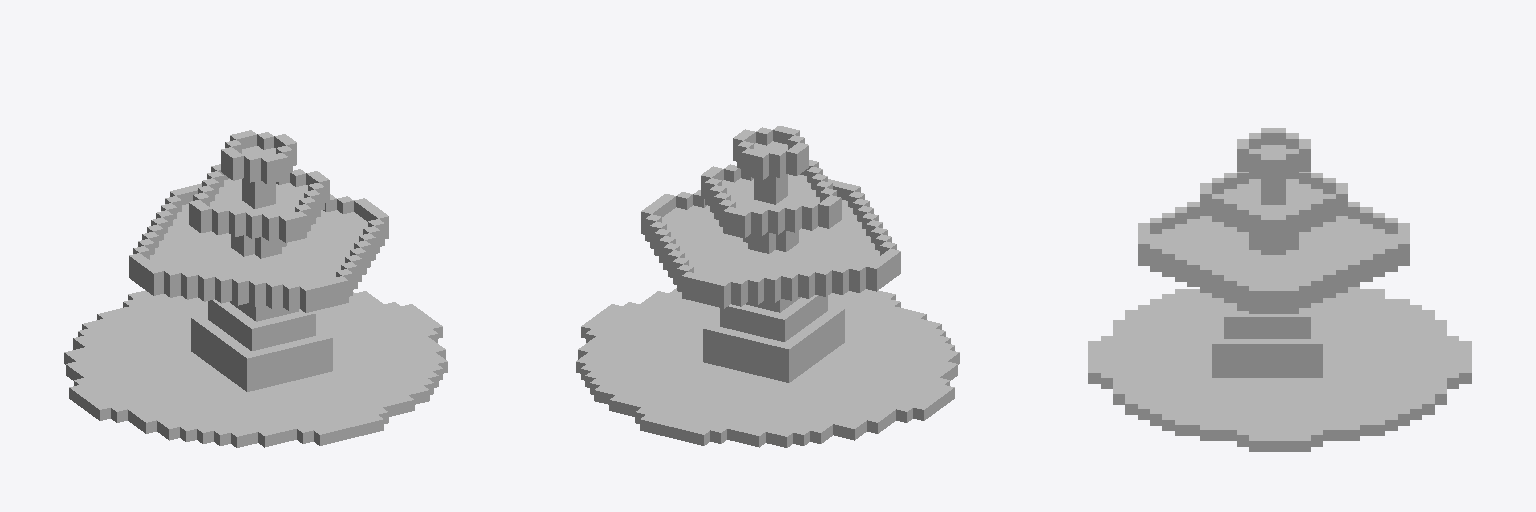
Rendered from fountain.obj.
3 views of the same model, side by side, from view 1: azimuth 30°, elevation 25°; view 2: azimuth 150°, elevation 25°; view 3: azimuth 270°, elevation 25° (orthographic).
Visible parts, largest first — view 1: object 1; view 2: object 1; view 3: object 1.
Part boxes in pixels (left/top/right/bottom): object 1: left=64, top=130, right=447, bottom=447; object 1: left=576, top=126, right=959, bottom=447; object 1: left=1088, top=128, right=1471, bottom=451.
Size of the model in its own units: 3.2 by 2 by 3.1.